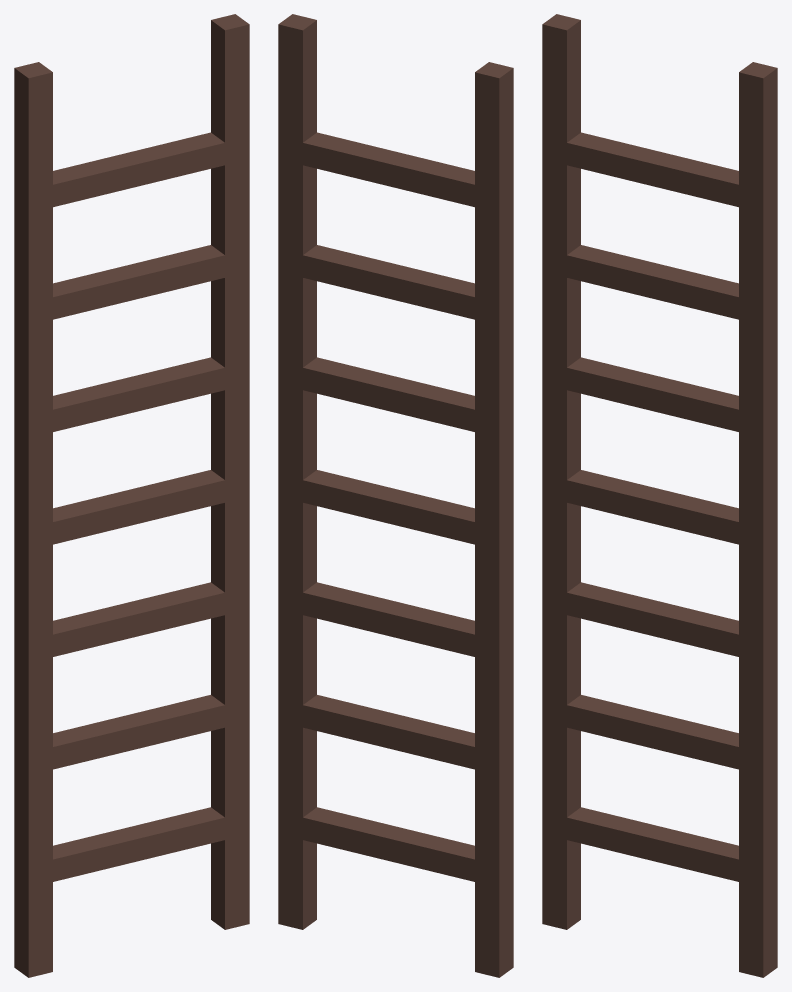
The model's file is Ladder.fbx.
The picture shows the model from 3 angles, left to right: view 1: azimuth 30°, elevation 25°; view 2: azimuth 150°, elevation 25°; view 3: azimuth 330°, elevation 25°; orthographic projection.
Parts seen in each view (by area): view 1: Ladder; view 2: Ladder; view 3: Ladder.
Boxes of the visible parts, x1,y1,x2,y2 form: Ladder: [14, 14, 249, 977]; Ladder: [278, 14, 513, 977]; Ladder: [542, 14, 777, 977].
Bounding box in the file's own units: 360 × 1400 × 40.
